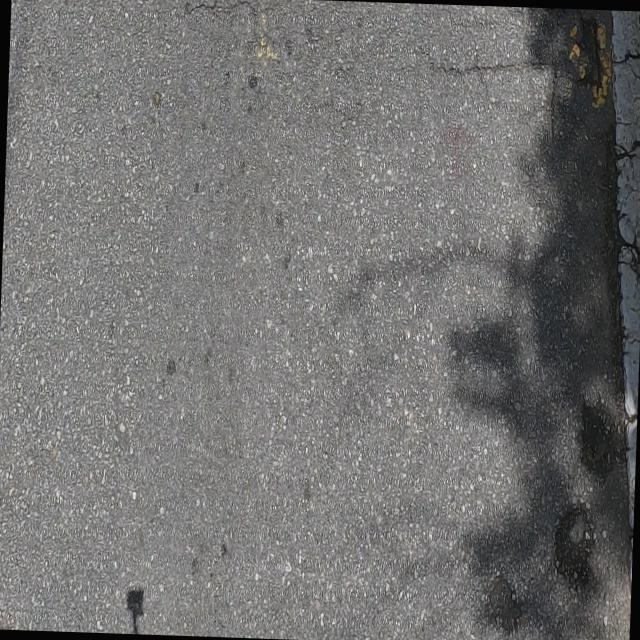Retak-Melintang: (429, 57, 549, 80), (180, 0, 272, 27)
Retak-Memanjang: (546, 25, 559, 146)
